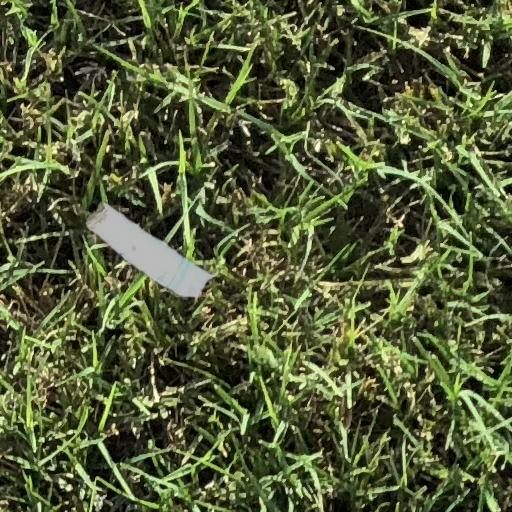smoke: (87, 203, 213, 297)
